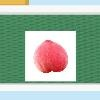raw: (32, 39, 70, 74)
